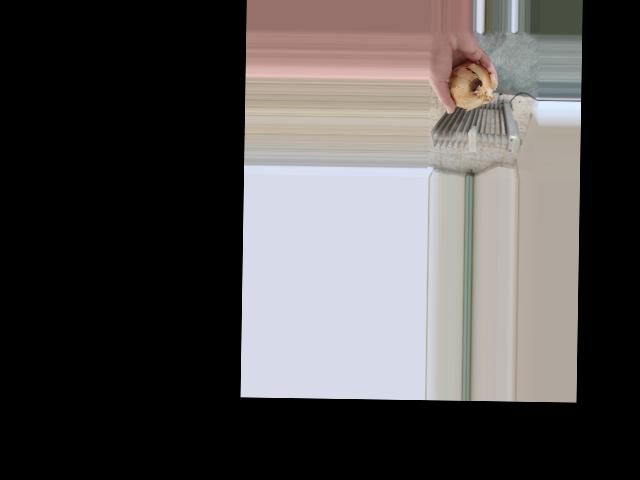onion: (446, 53, 491, 111)
